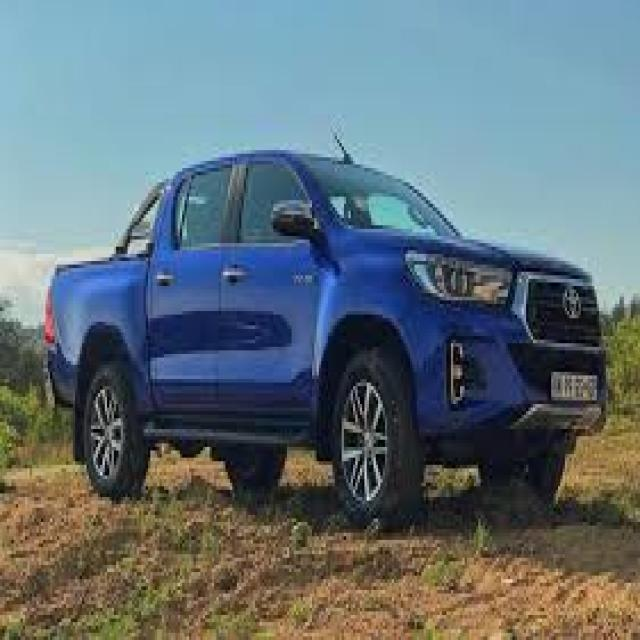Pickup Trucks: (43, 150, 608, 533)
